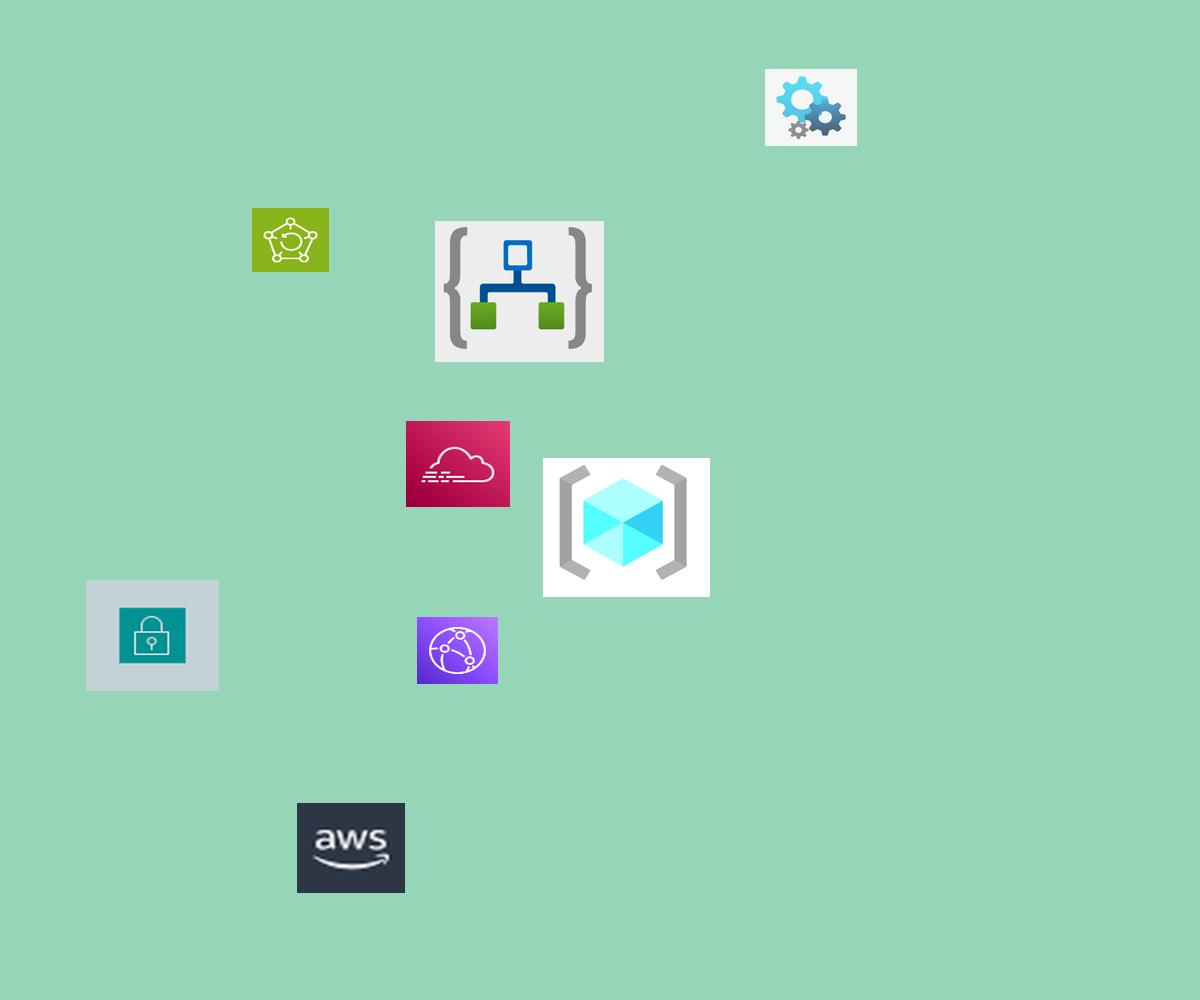AWS-Backup: (252, 208, 329, 272)
AWS-Cloud-logo: (297, 803, 405, 893)
AWS-CloudFront: (417, 617, 498, 684)
AWS-CloudTrail: (406, 421, 510, 507)
AWS-Private-subnet: (86, 580, 219, 691)
Azure_api: (765, 69, 857, 146)
Azure_integration-204-Logic-Apps: (435, 221, 604, 362)
Azure_resource_group: (543, 458, 710, 597)
